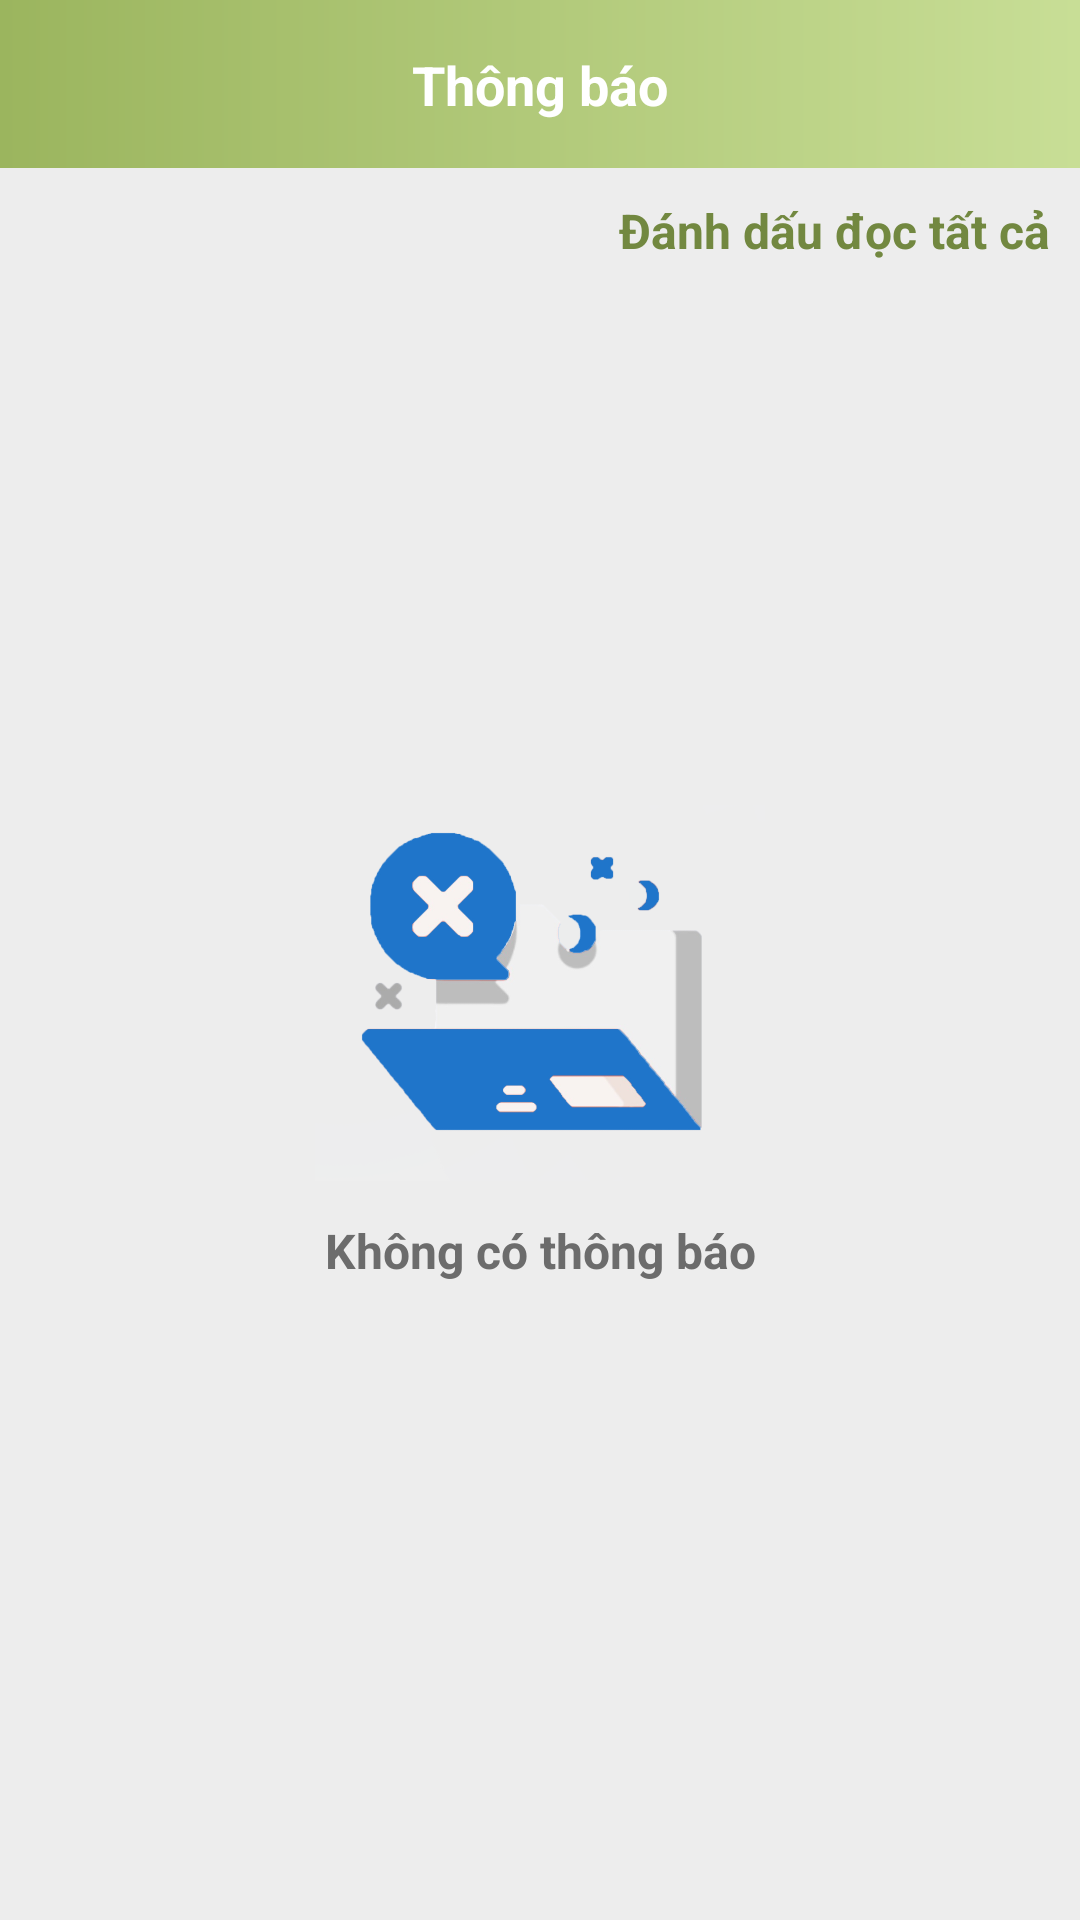

Icons on this 1080 × 1920 Android screen, each with its box as Rect(x1, y1, x2, y2):
no data: Rect(362, 833, 702, 1130)
